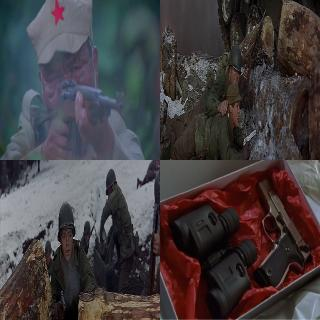gun: (34, 78, 128, 160), (250, 174, 312, 296), (238, 8, 266, 100), (240, 124, 258, 160), (56, 290, 66, 320)
